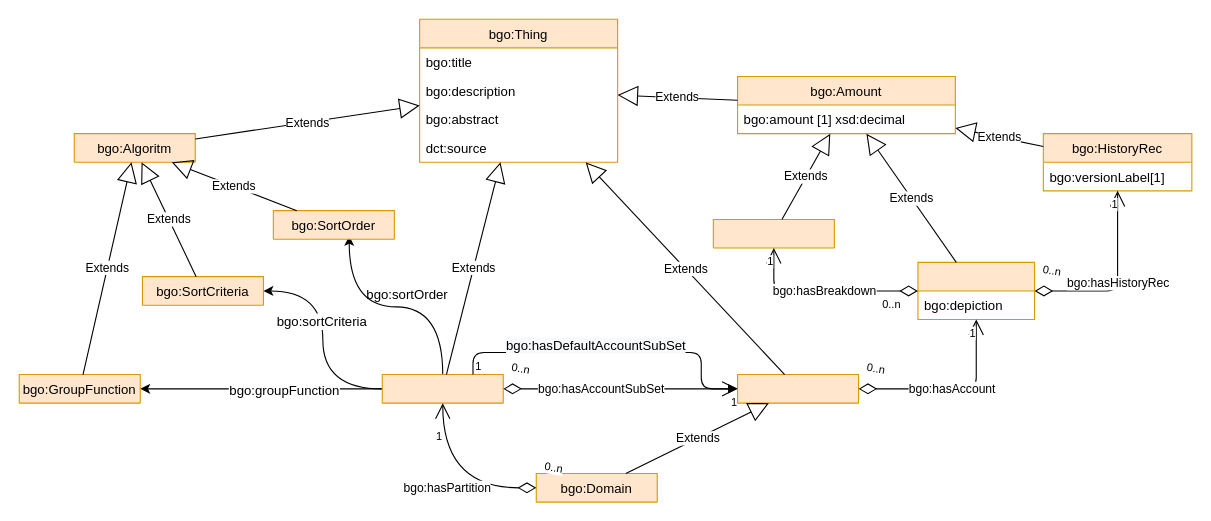
Some shapes in this 1211 by 521 pixel diagram are drawn without their labels. Here are the shapes that lost their labels. From the top down, the box of each, then its label:
(712, 218, 834, 248): bgo:PartialAmount
(917, 261, 1035, 320): bgo:Account
(381, 373, 503, 403): bgo:Partition
(736, 373, 859, 403): bgo:Account Set
